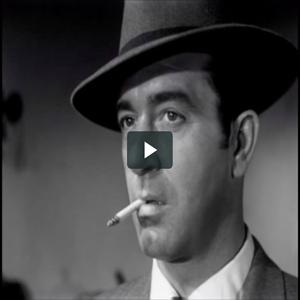cigarette: (105, 197, 144, 230)
